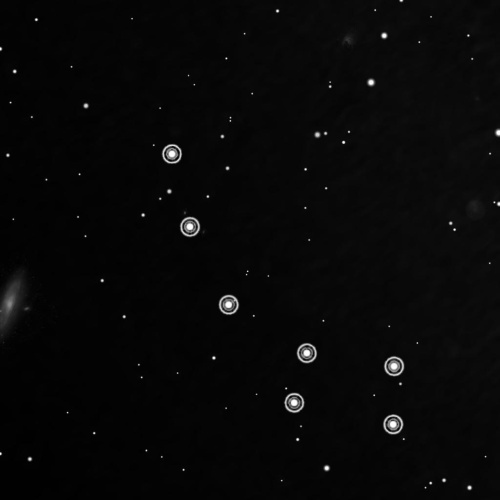ursa_minor: (153, 137, 411, 443)
